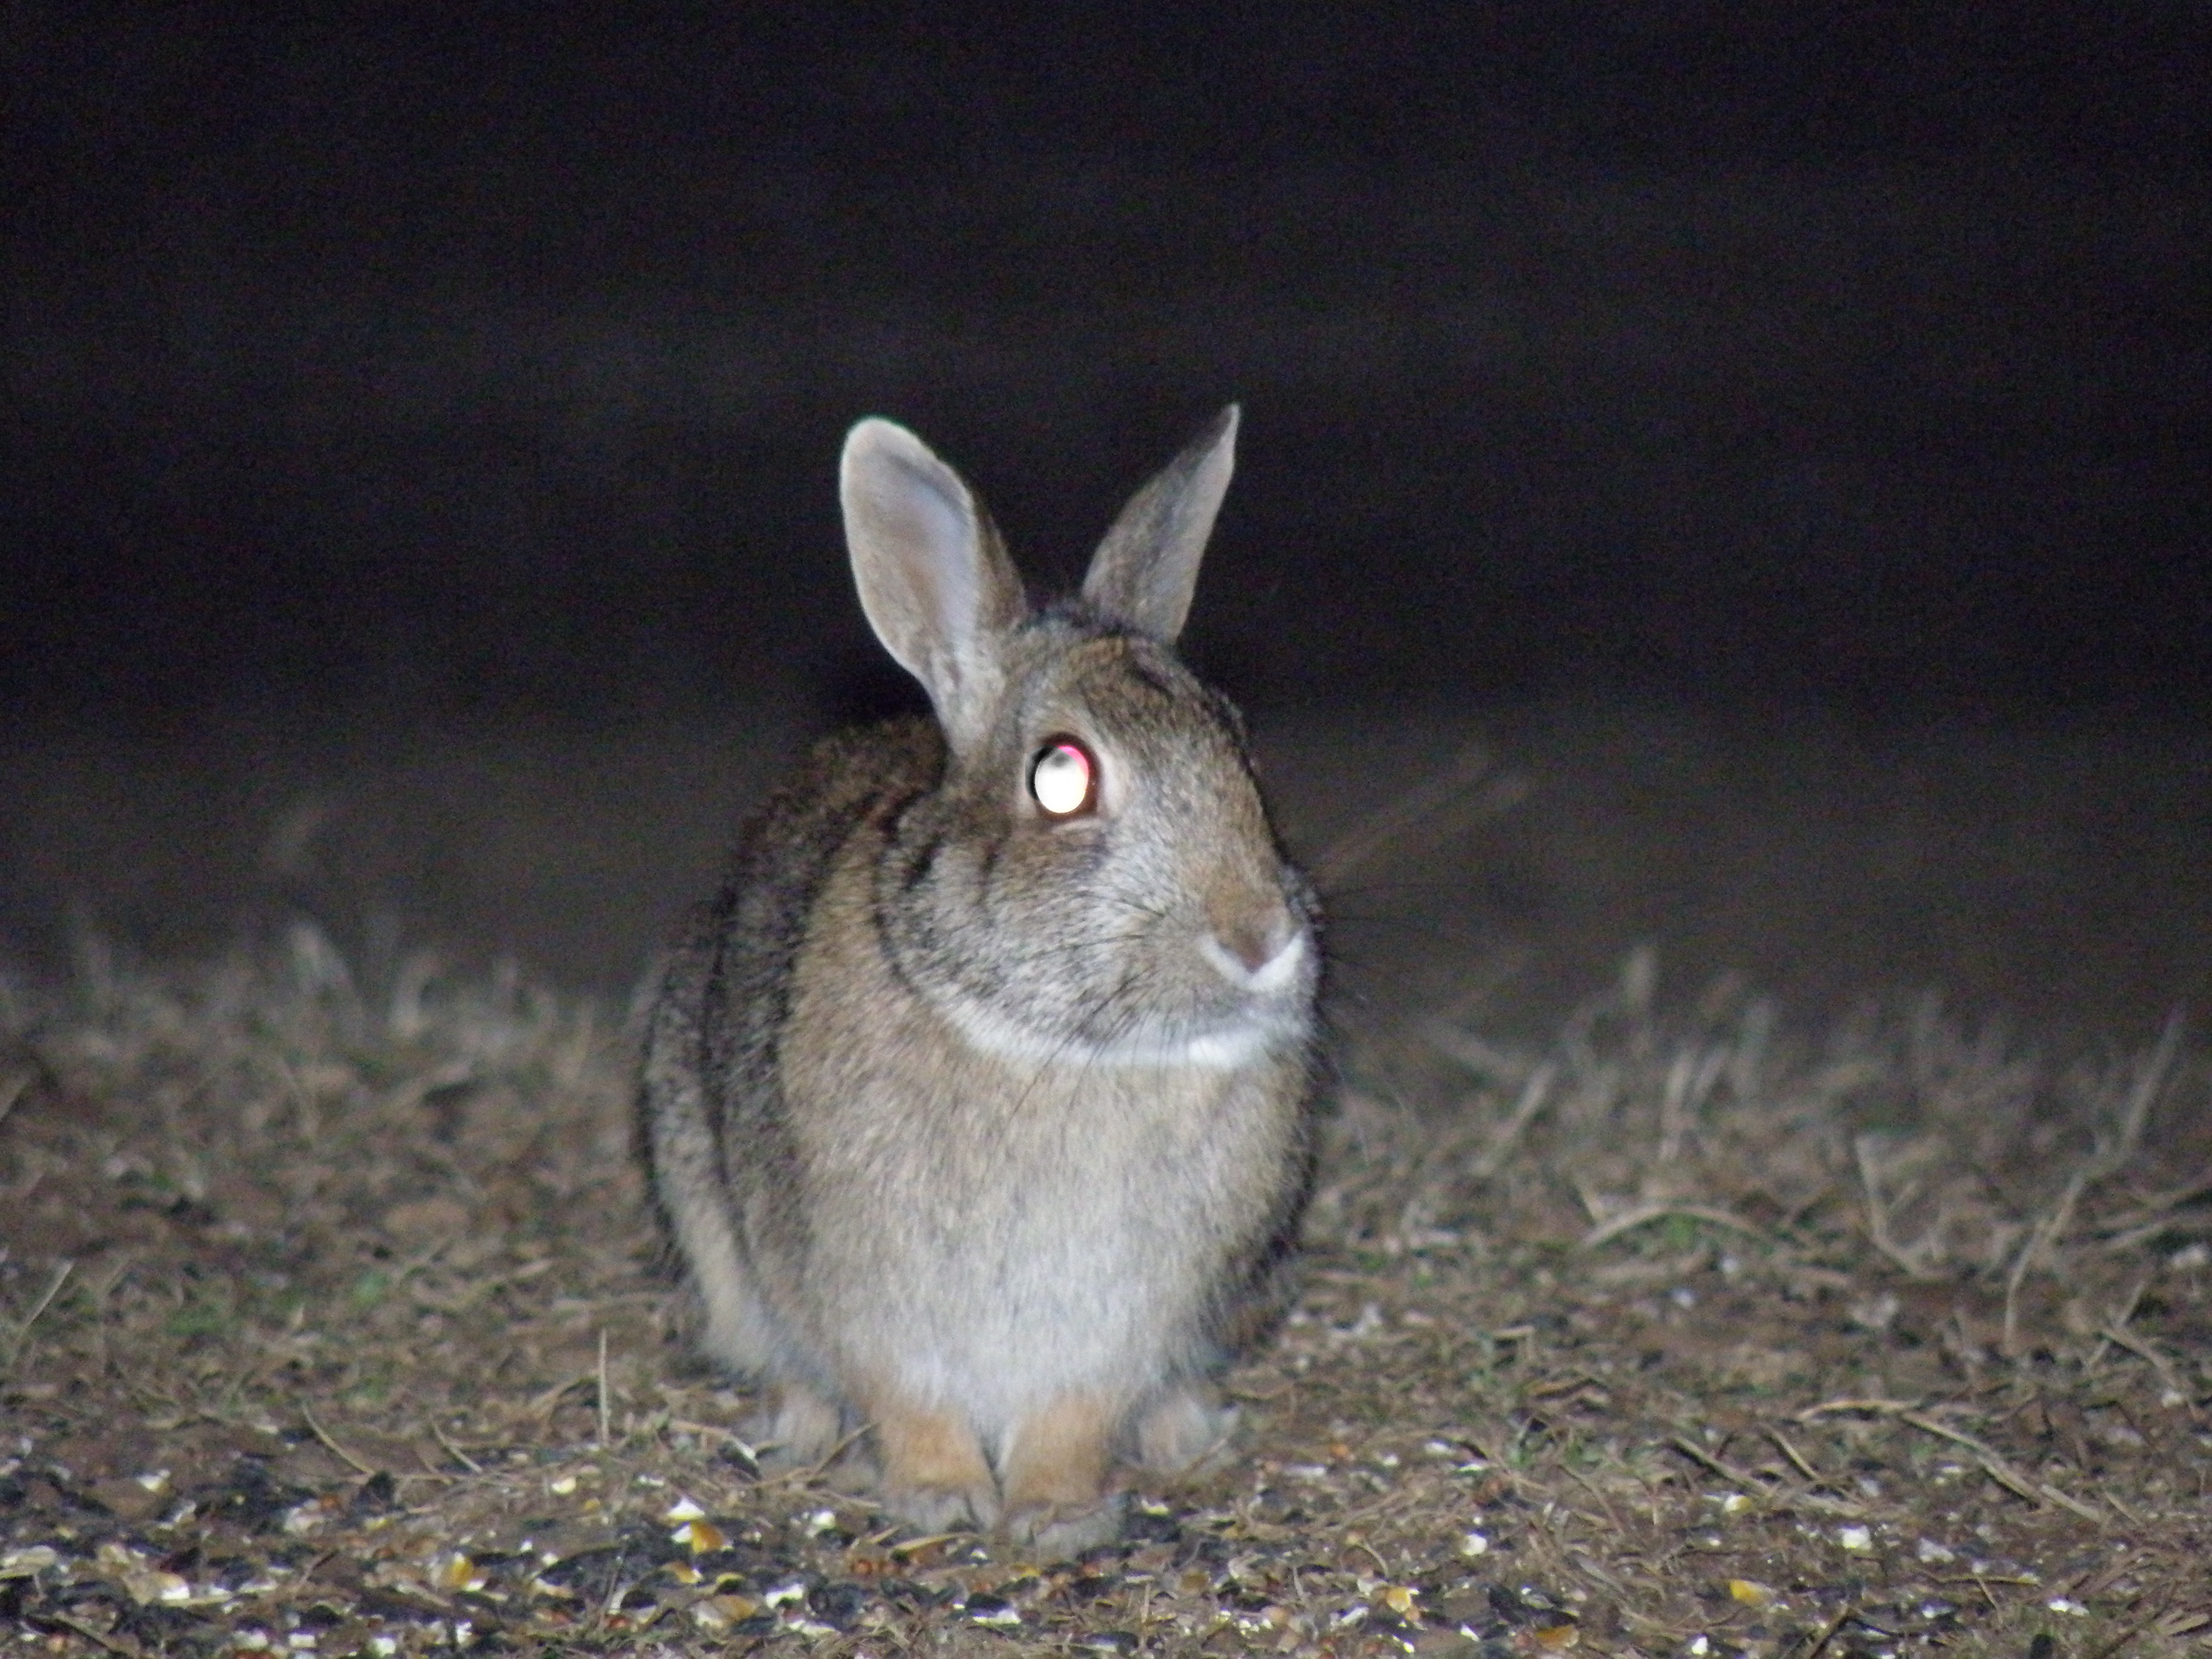bunny: (596, 329, 1404, 1572)
